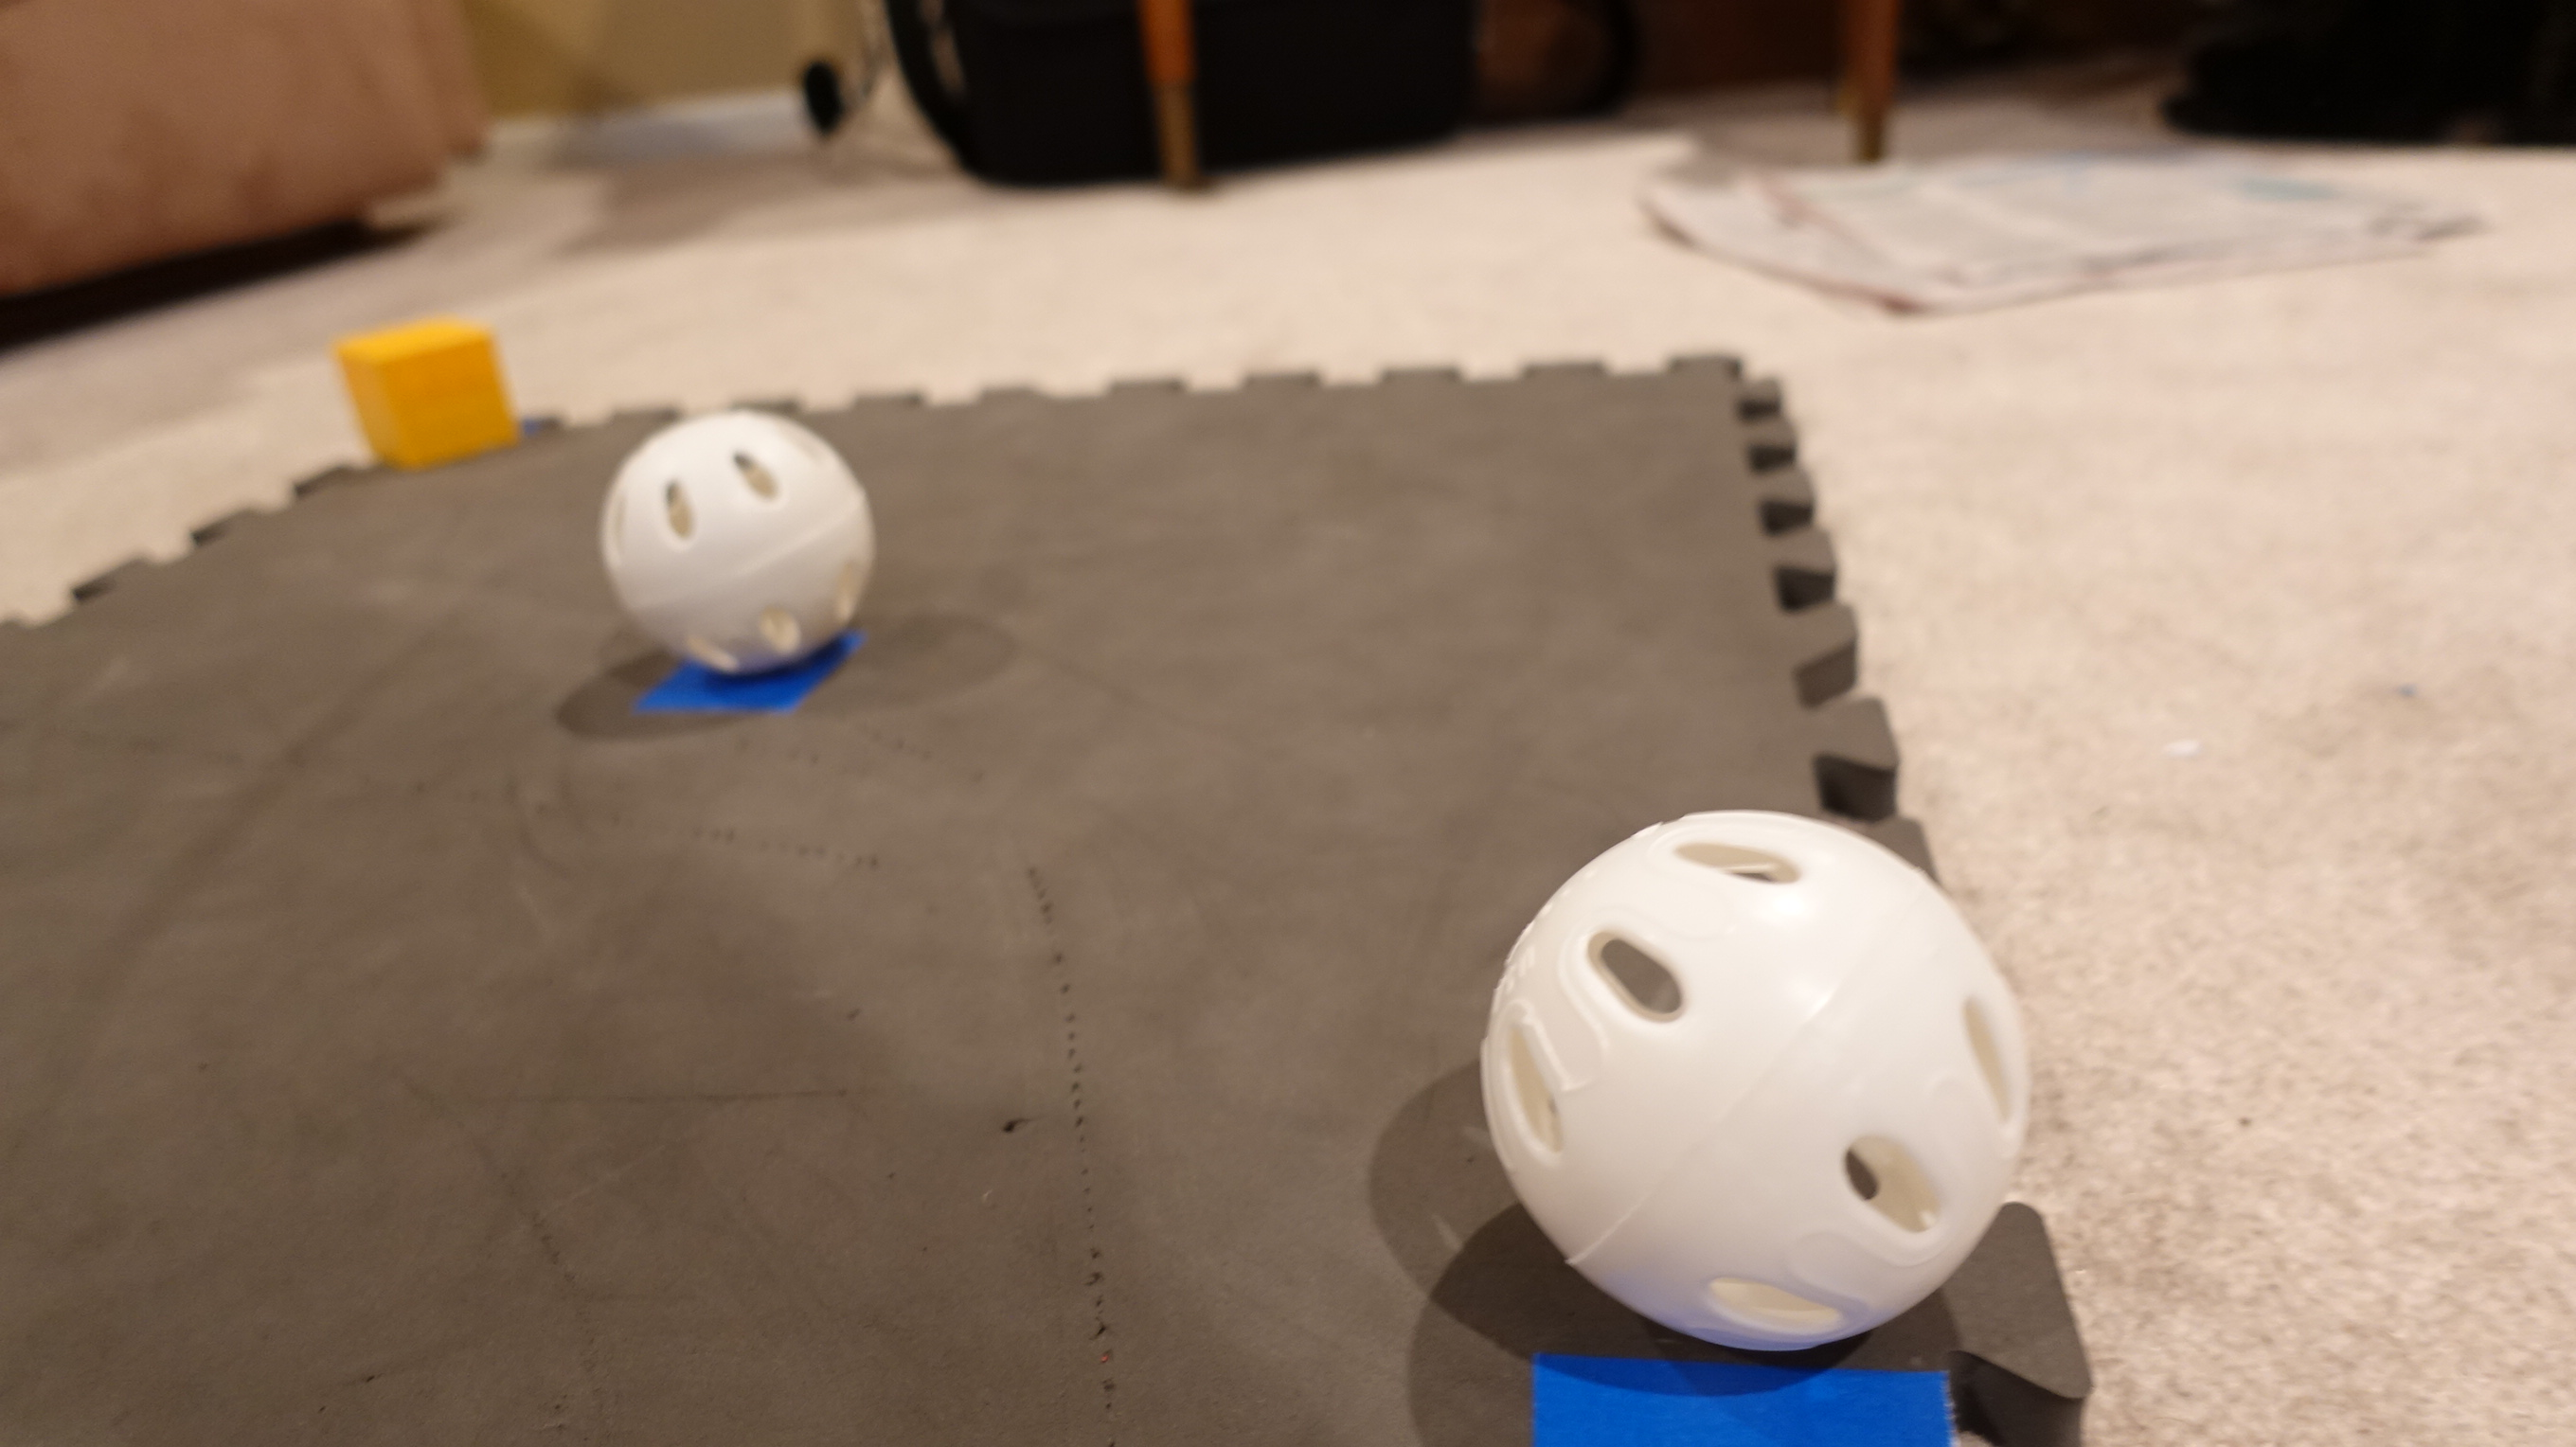gold: (324, 311, 531, 479)
silver: (1461, 784, 2051, 1353), (580, 405, 888, 676)
